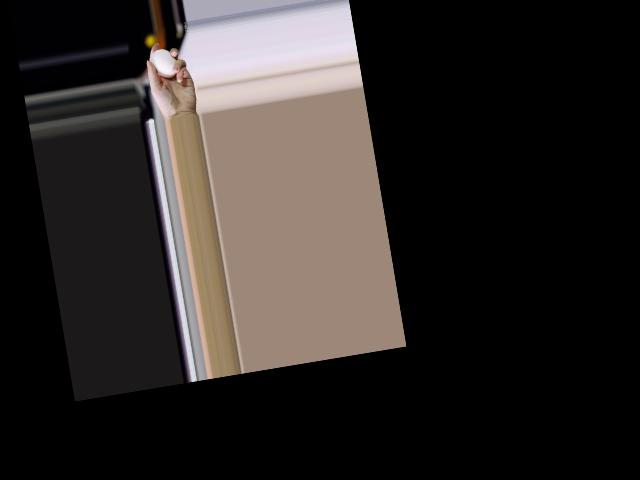egg: (149, 46, 178, 79)
